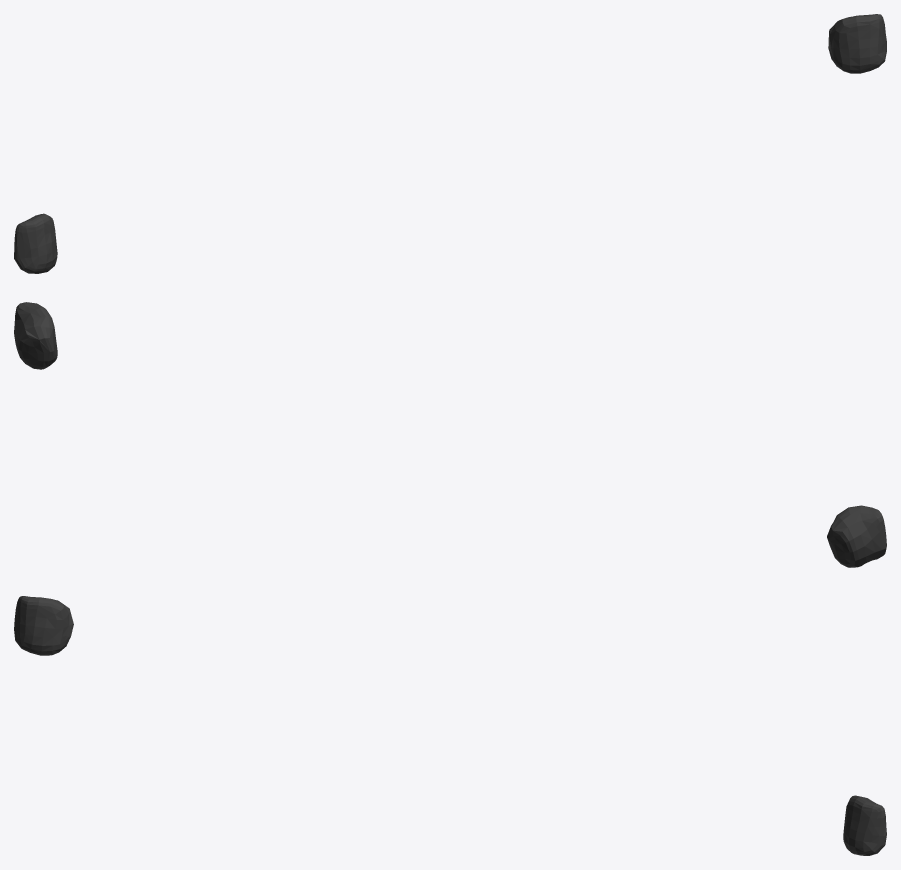
File: Tarsal_first_1.glb
3 views of the same model, one above another, from view 1: azimuth 30°, elevation 25°; view 2: azimuth 150°, elevation 25°; view 3: azimuth 330°, elevation 25° (orthographic).
Parts seen in each view (by area): view 1: Tarsal_first_1; view 2: Tarsal_first_1; view 3: Tarsal_first_1.
Boxes of the visible parts, left/top/right/bottom form: Tarsal_first_1: left=14, top=14, right=886, bottom=273; Tarsal_first_1: left=14, top=302, right=886, bottom=567; Tarsal_first_1: left=14, top=596, right=886, bottom=855.
Size of the model in its own units: 0.00437 by 0.000279 by 0.000201.
1 material, 1 textured.
